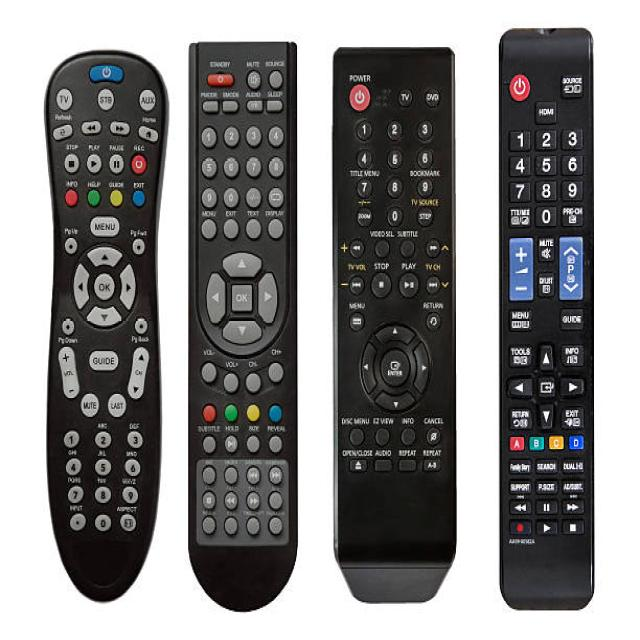remote: (43, 42, 173, 601), (333, 42, 456, 603), (188, 38, 300, 615), (499, 27, 590, 615)
